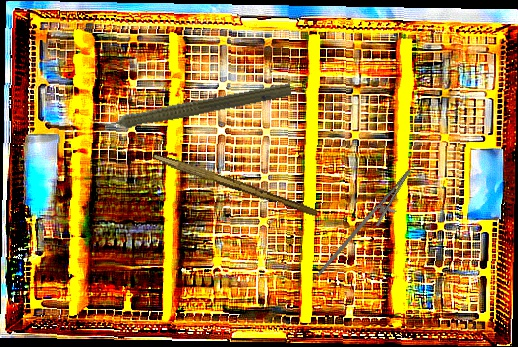Handpiece: (88, 74, 293, 139)
Needle Holder: (315, 159, 421, 293)
Scalpel Handle: (150, 152, 319, 218)
